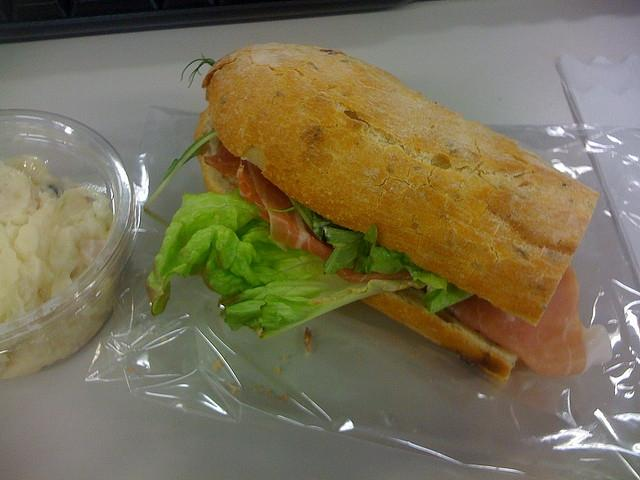lettuce: (145, 189, 426, 342), (262, 196, 475, 314), (144, 130, 218, 227)
